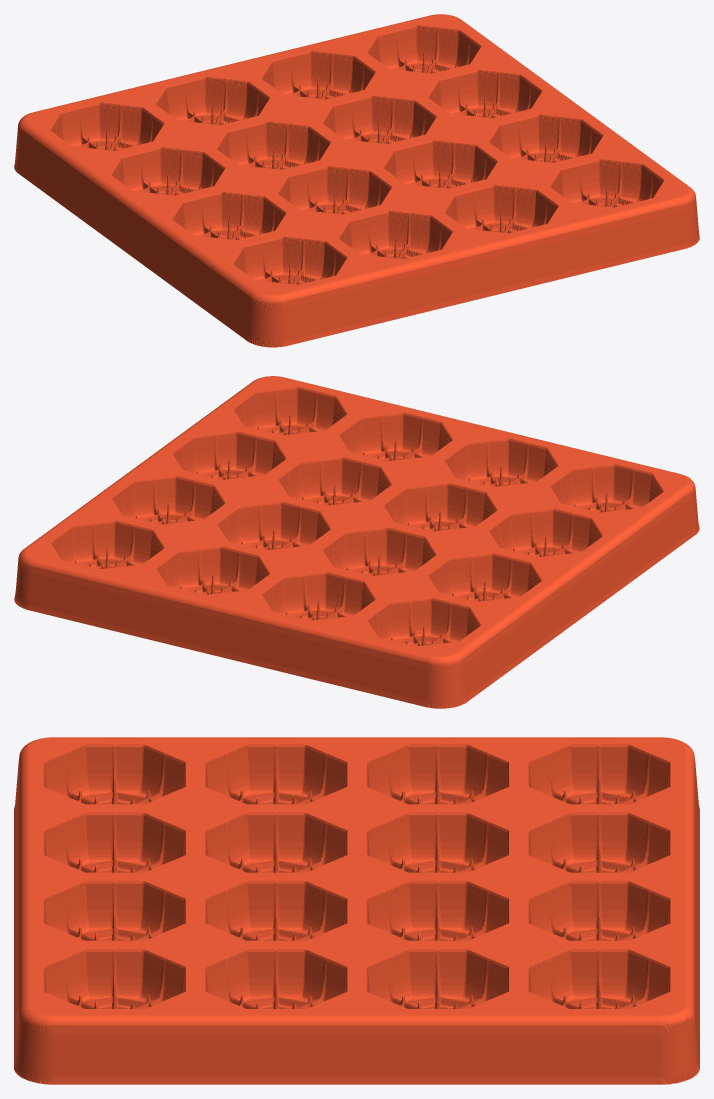
Rendered from mold.glb.
3 views of the same model, one above another, from view 1: azimuth 30°, elevation 25°; view 2: azimuth 150°, elevation 25°; view 3: azimuth 270°, elevation 25° (orthographic). The views are drawn at different scales.
Parts seen in each view (by area): view 1: geometry_0; view 2: geometry_0; view 3: geometry_0.
Part boxes in pixels (x1,y1,x2,y2): geometry_0: (14, 14, 699, 347); geometry_0: (14, 376, 699, 708); geometry_0: (14, 737, 699, 1084).
Bounding box in the file's own units: 0.1569 × 0.0159 × 0.1569.
